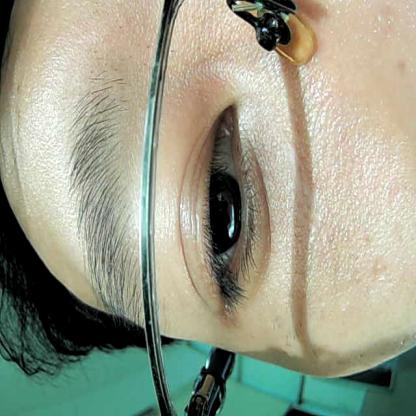Straight: (173, 92, 272, 319)
